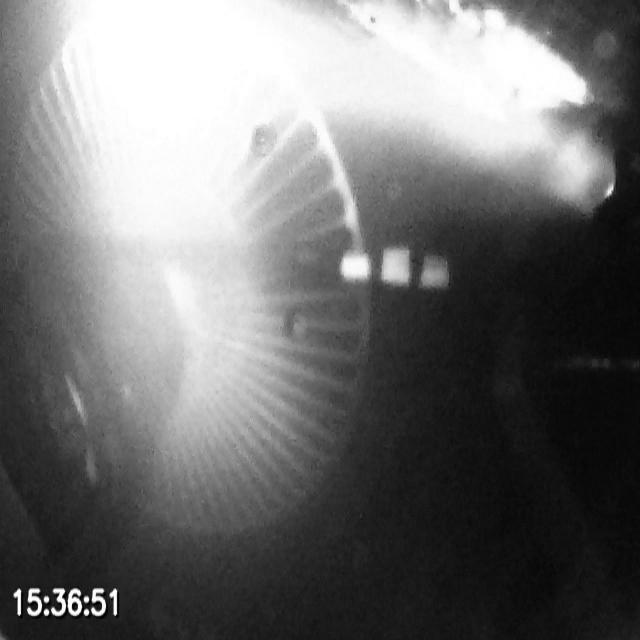white-dots: (339, 244, 452, 292)
